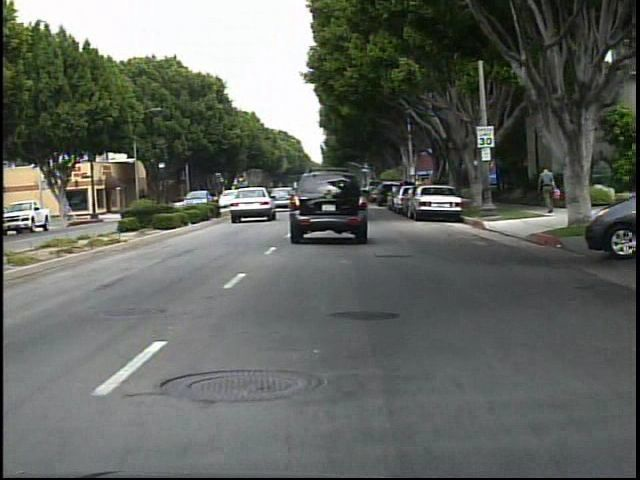person: (537, 165, 560, 218)
